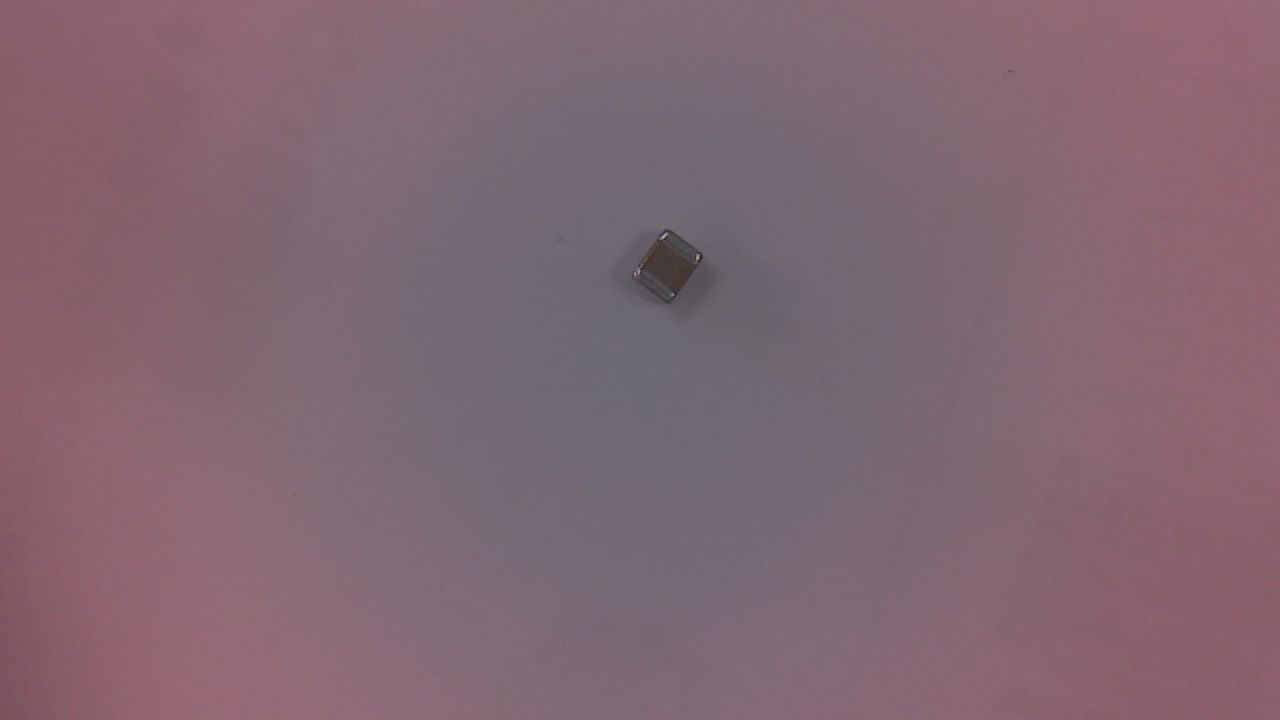Condensator: (635, 230, 709, 307)
